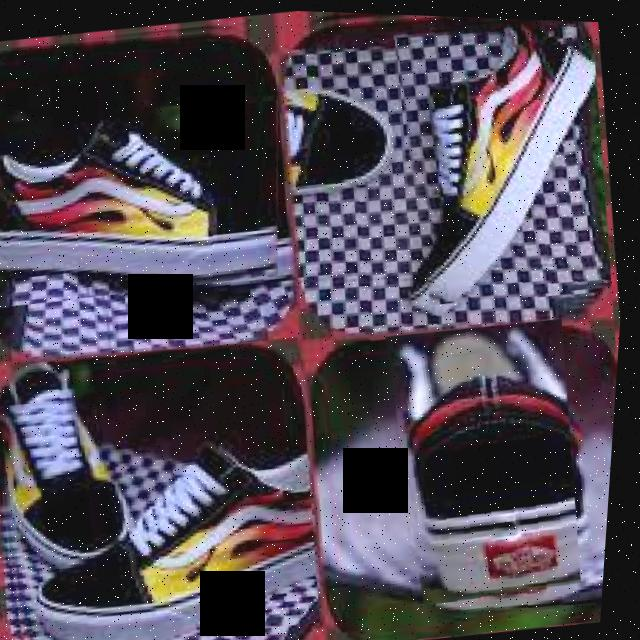shoe: (0, 0, 640, 640), (0, 323, 343, 640), (379, 11, 629, 309), (0, 84, 305, 318), (376, 310, 603, 609)
